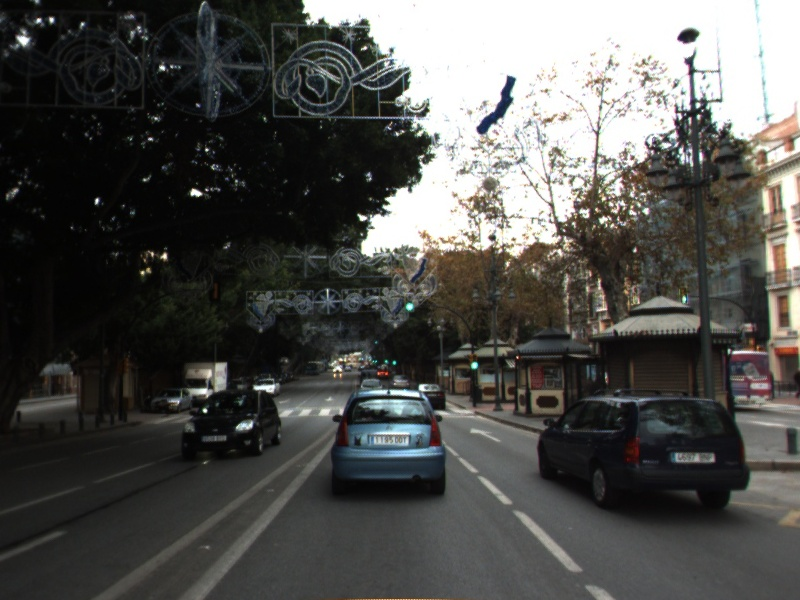STRAIGHT: (468, 425, 503, 444)
